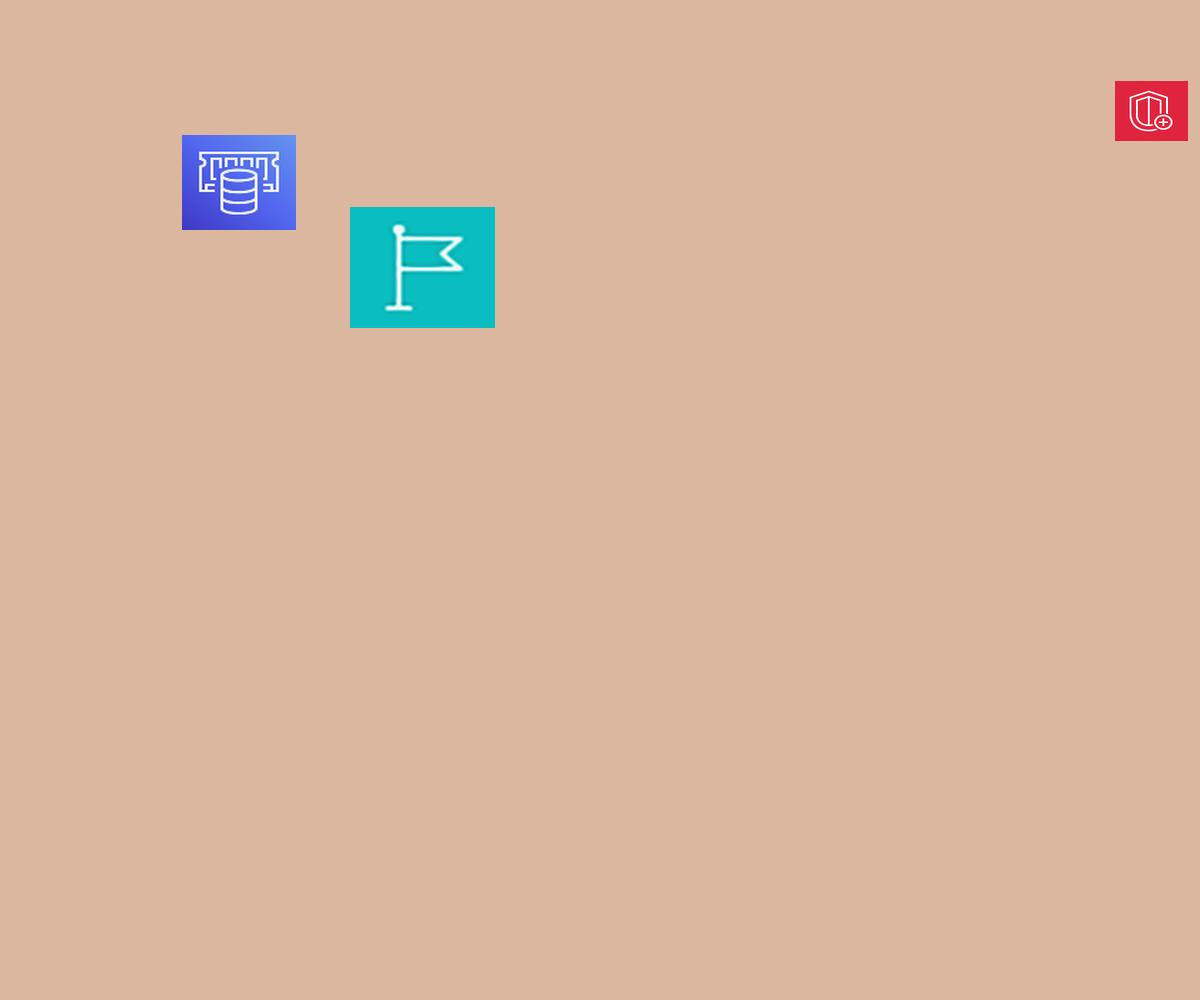AWS-ElastiCache: (182, 135, 296, 230)
AWS-Region: (350, 207, 495, 328)
AWS-Shield: (1115, 81, 1188, 141)
